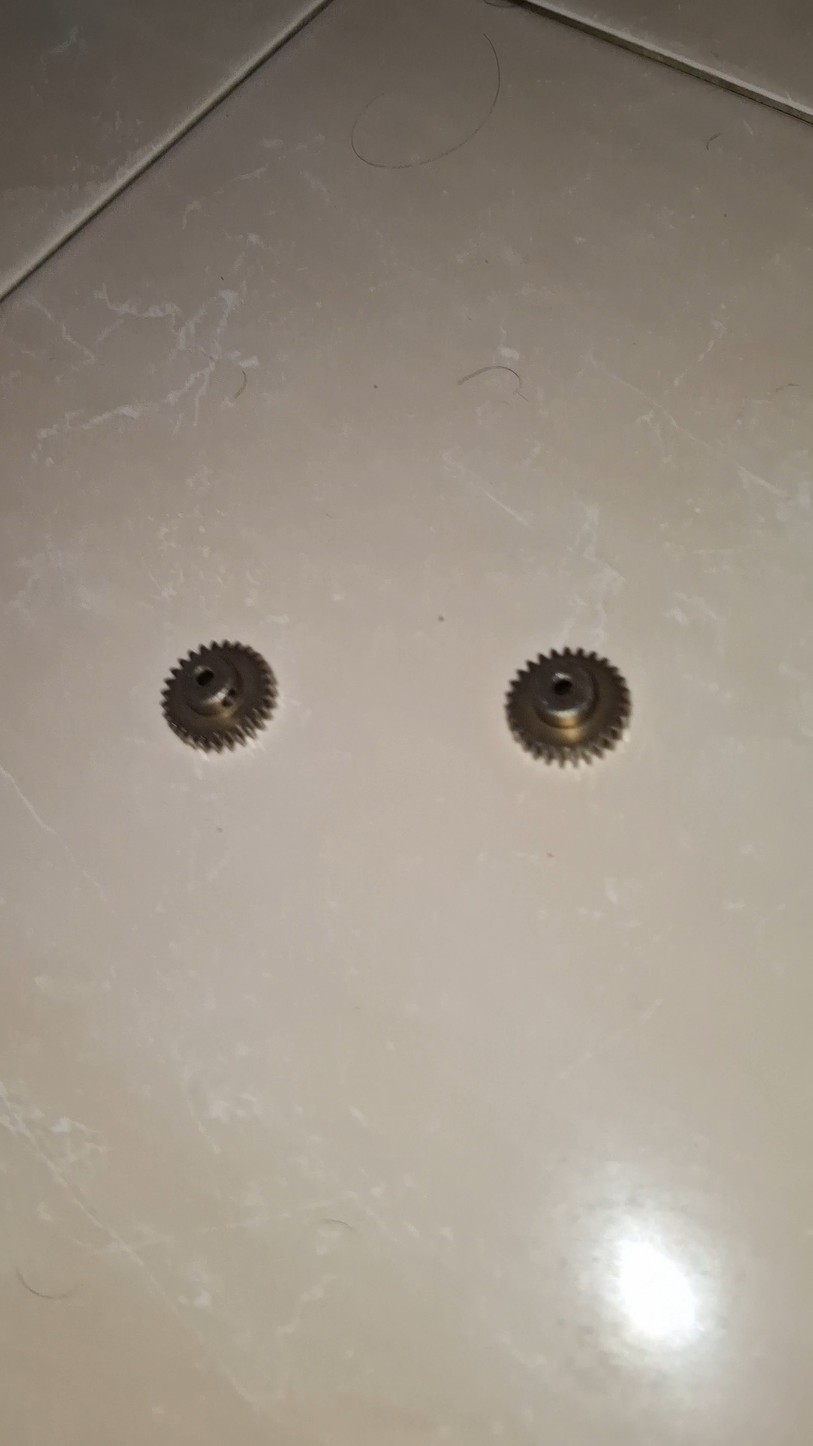spur gear: (506, 649, 630, 764), (162, 642, 276, 751)
